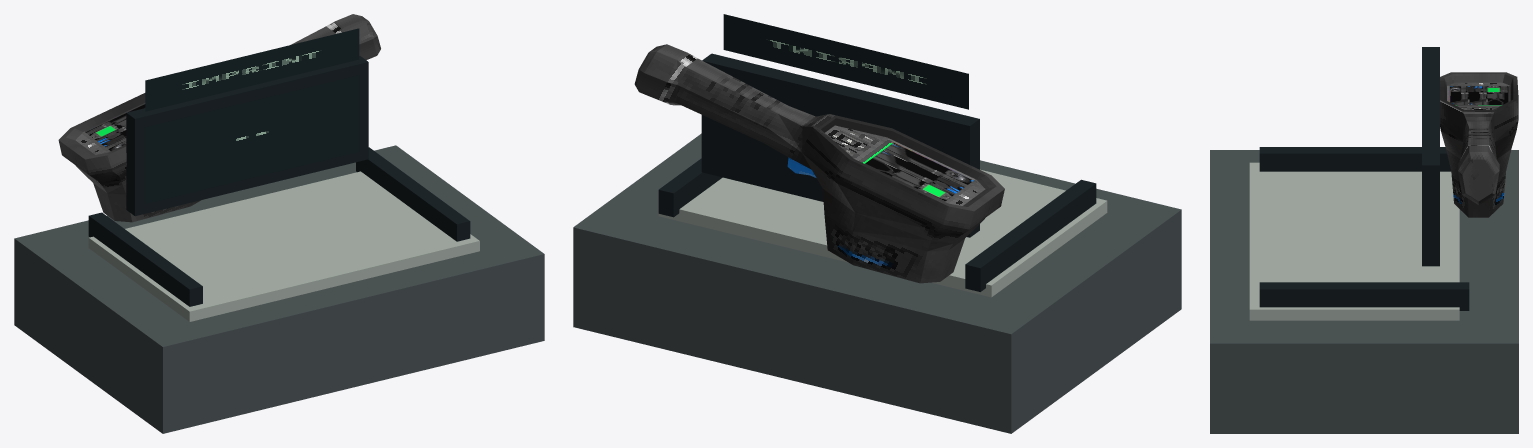
Rendered from blender_object_imprint_scanner_2.glb.
3 renders of one model, left to right at view 1: azimuth 30°, elevation 25°; view 2: azimuth 150°, elevation 25°; view 3: azimuth 270°, elevation 25°, orthographic. The views are drawn at different scales.
Parts seen in each view (by area): view 1: blender_object_imprint_scanner_2; view 2: blender_object_imprint_scanner_2; view 3: blender_object_imprint_scanner_2.
Boxes of the visible parts, x1,y1,x2,y2 form: blender_object_imprint_scanner_2: (14,14,544,433); blender_object_imprint_scanner_2: (573,14,1181,433); blender_object_imprint_scanner_2: (1210,47,1518,433).
Size of the model in its own units: 0.23 by 0.149 by 0.155.
1 material, 1 textured.
